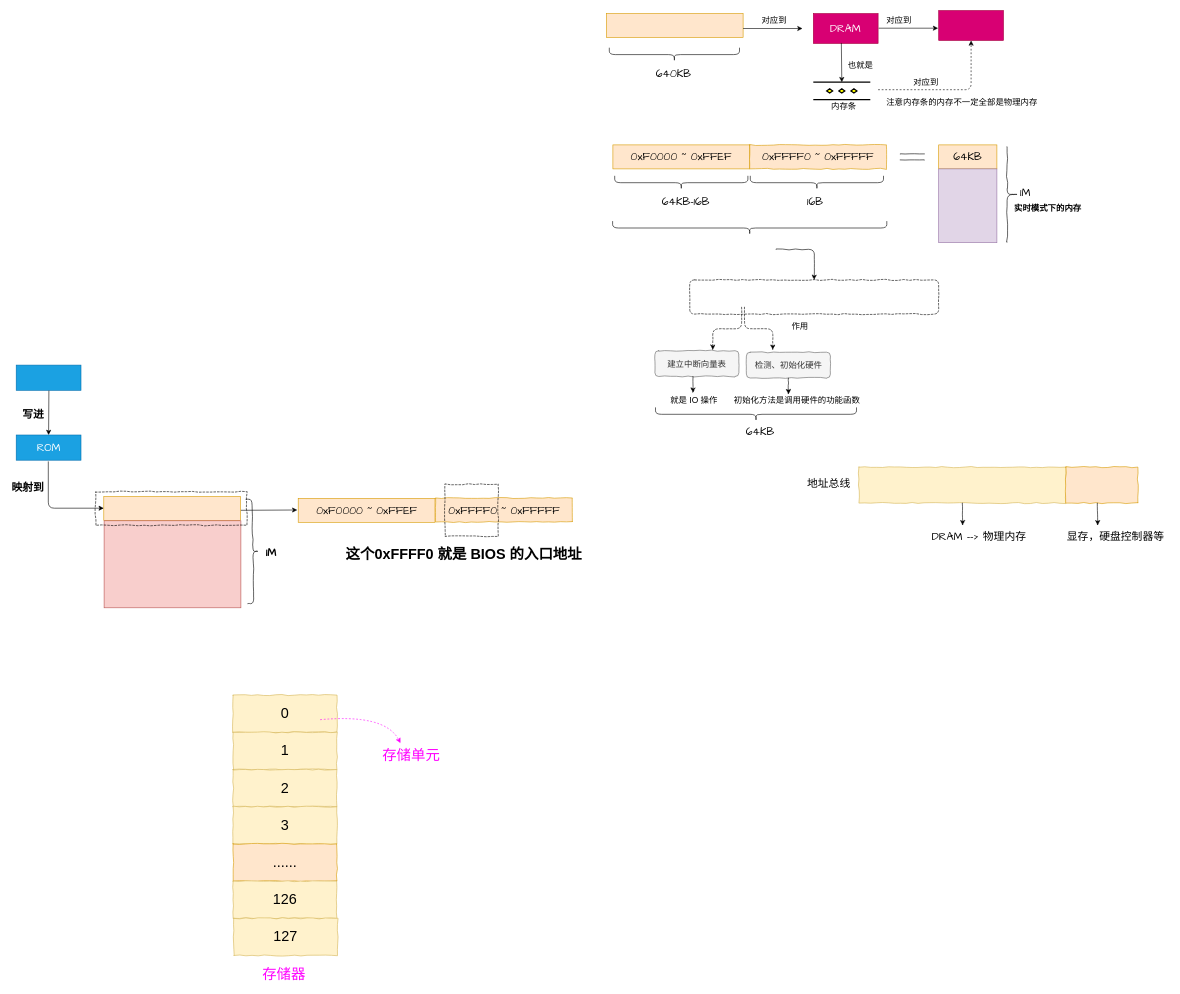
This 1180x994 diagram has some shape labels left out. Each missing label, with the box of its shape:
0 ~ 0x9FFFF: (606, 13, 743, 38)
64KB: 0xF0000 ~ 0xFFFF: (103, 496, 241, 520)
BIOS: (16, 364, 81, 390)
ROM，64KB: (612, 220, 887, 235)
其他设备访问: (1065, 466, 1138, 503)
内存条访问: (858, 466, 1066, 503)
存储 BIOS 代码： 其实是跳转指令 jmp f000: e05b: (689, 279, 939, 314)
物理内存: (938, 10, 1004, 40)
